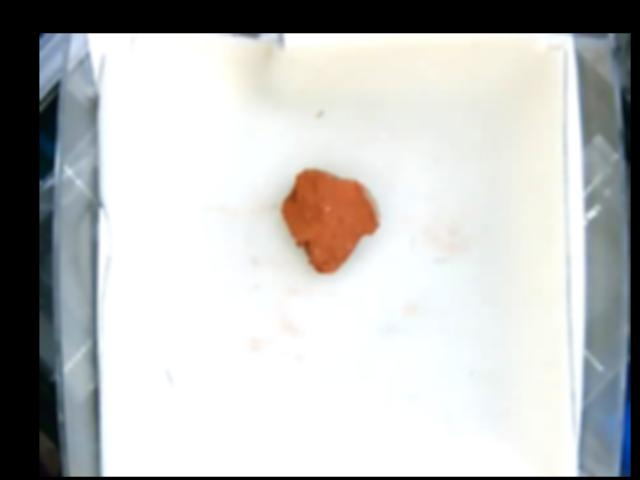Brisk: (281, 167, 378, 271)
